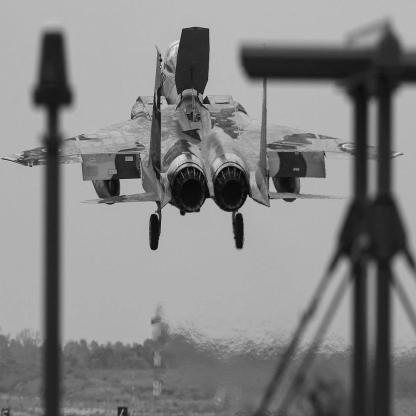F15: (2, 28, 405, 252)
